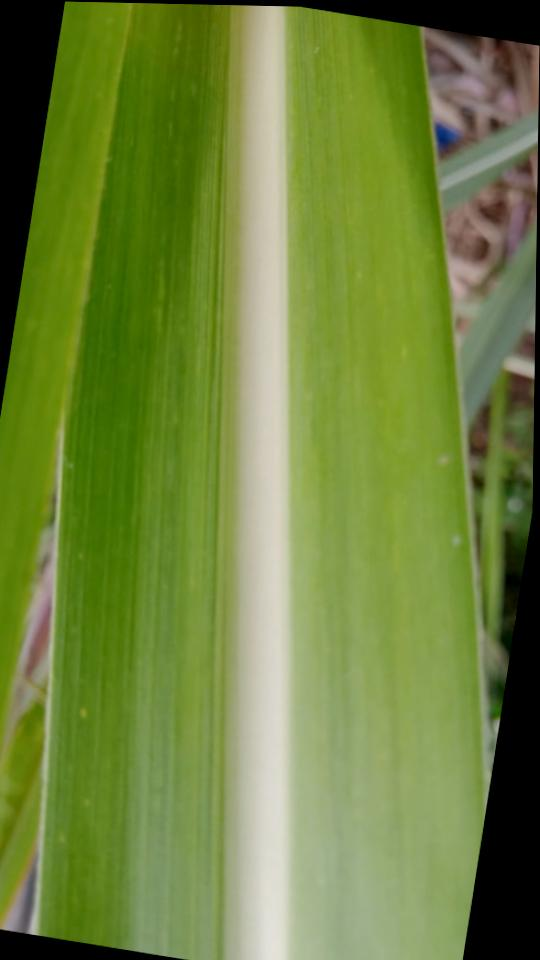Healthy: (40, 3, 485, 960)
